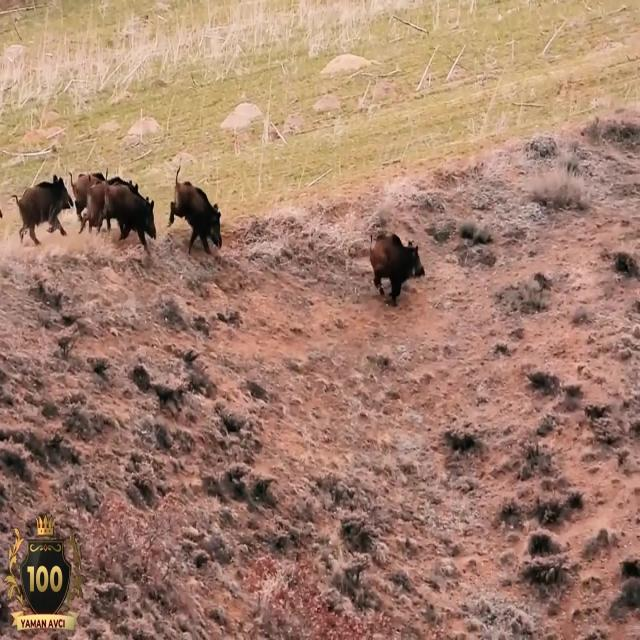pig: (361, 199, 444, 304), (167, 156, 230, 262), (24, 174, 80, 265), (104, 158, 156, 245), (82, 160, 114, 204)
